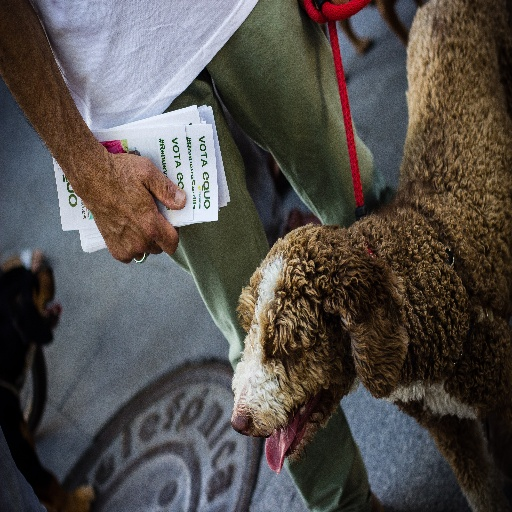hand: (104, 159, 184, 272)
